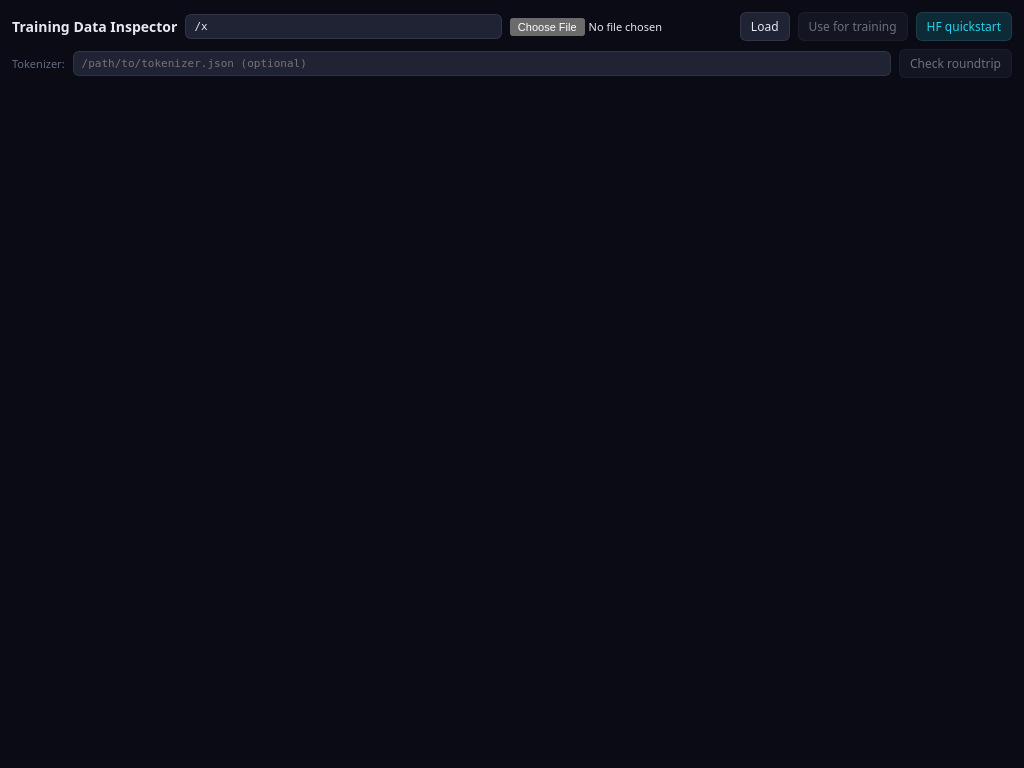
Scenario: DataInspector › toggling a channel hides its ribbon
Click the button with test id "data-load".
click(765, 26)  # box [740,12,790,41]
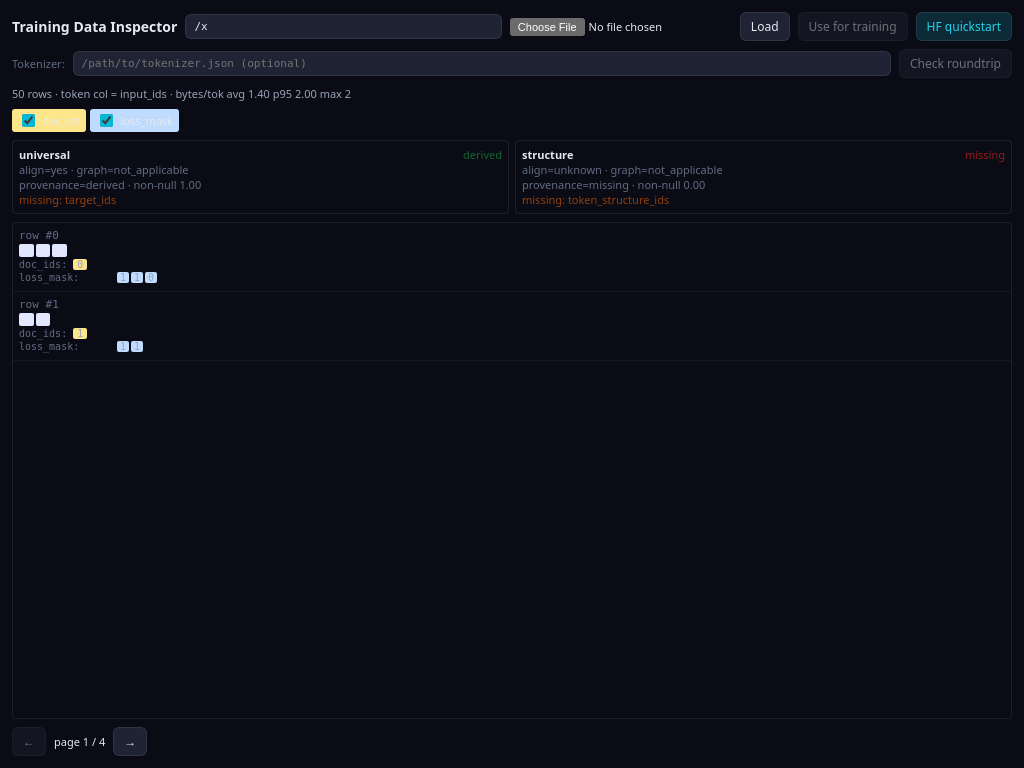
Expected: the element with test id "data-ribbon-0-doc_ids" is shown, [19,259,87,270]
Click the checkbox labelled "doc_ids".
click(28, 120)  # box [22,114,35,127]
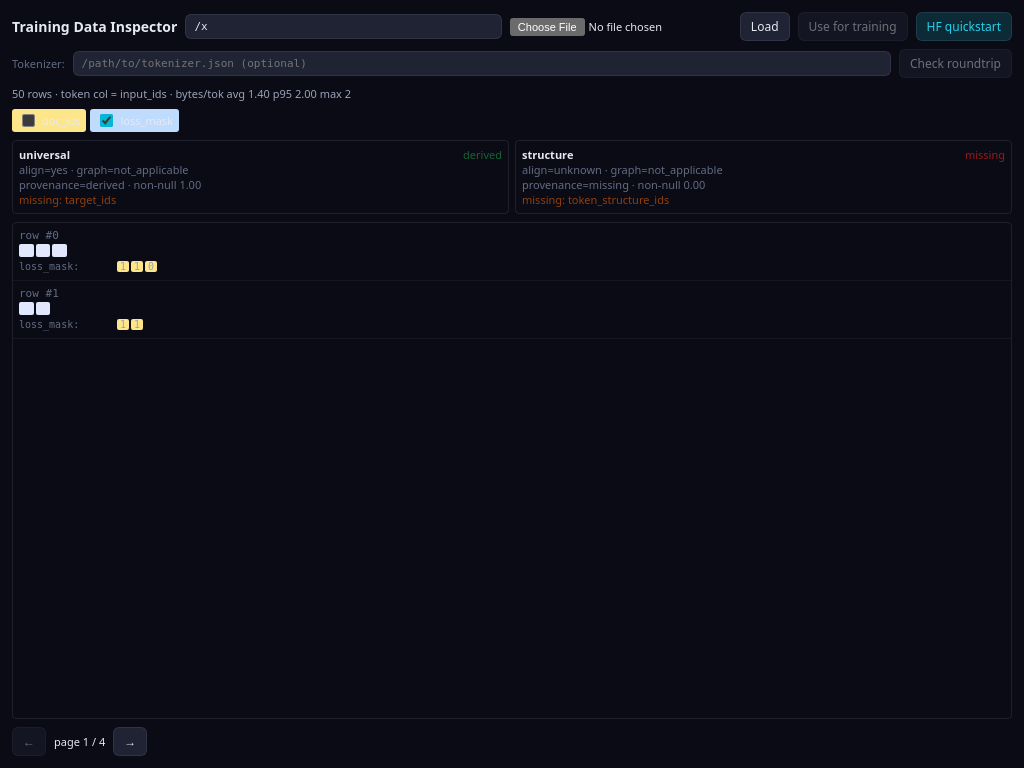
Expected: the element with test id "data-ribbon-0-doc_ids" is gone
